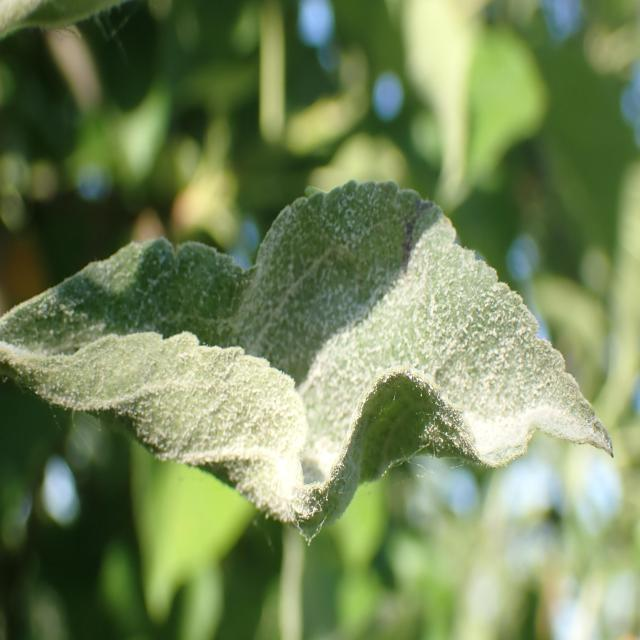Powdery_mildew: (4, 193, 617, 558)
